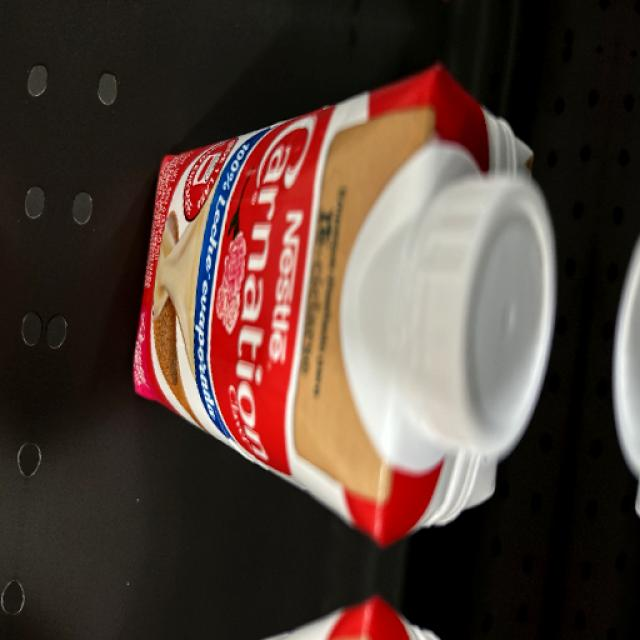nestleCarnation: (146, 131, 539, 502)
